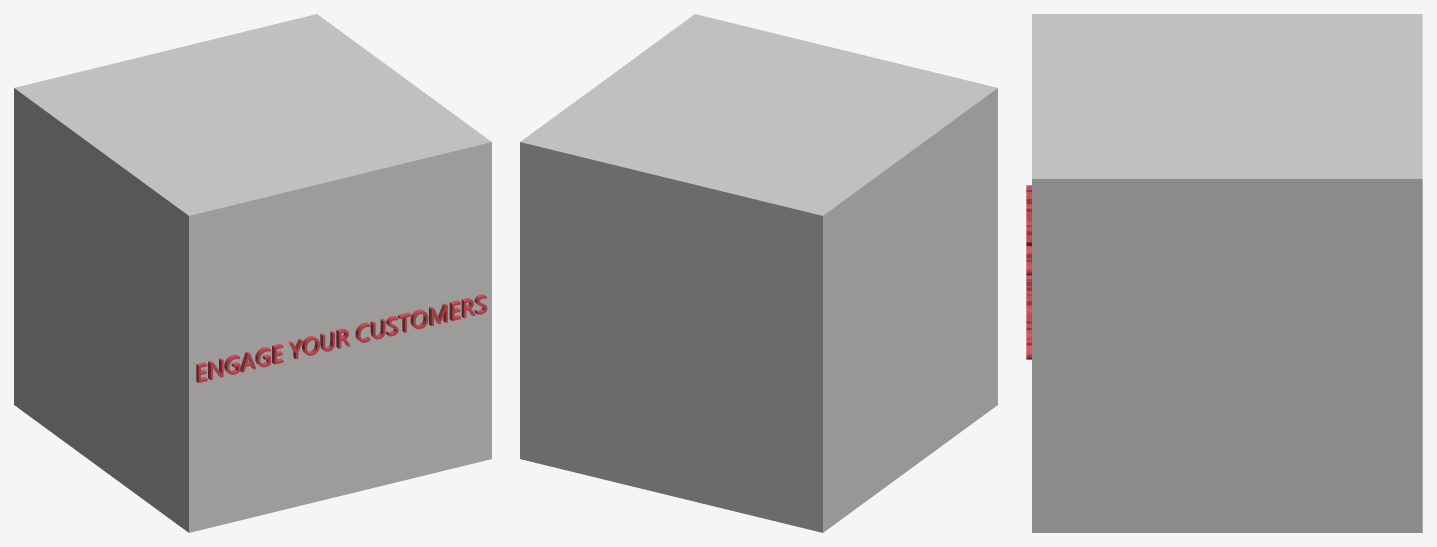
The model's file is engage.glb.
The picture shows the model from 3 angles, left to right: view 1: azimuth 30°, elevation 25°; view 2: azimuth 150°, elevation 25°; view 3: azimuth 270°, elevation 25°; orthographic projection. The views are drawn at different scales.
Bounding box in the file's own units: 0.2 × 0.2 × 0.203.
